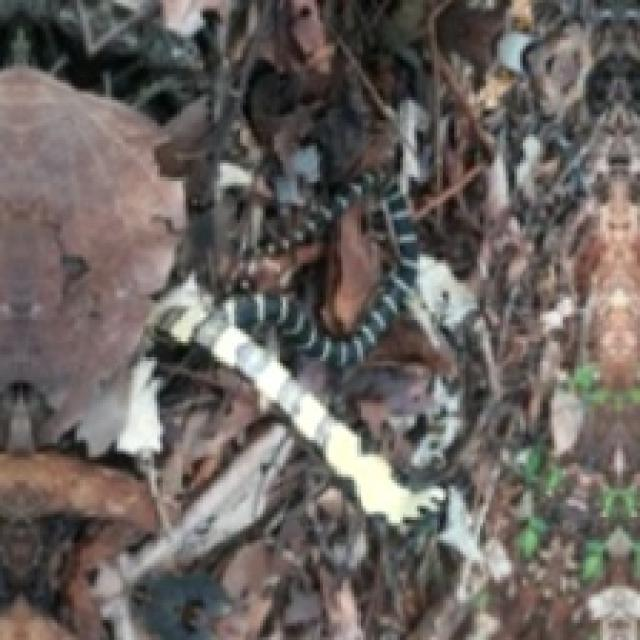king cobra: (151, 0, 489, 520)
